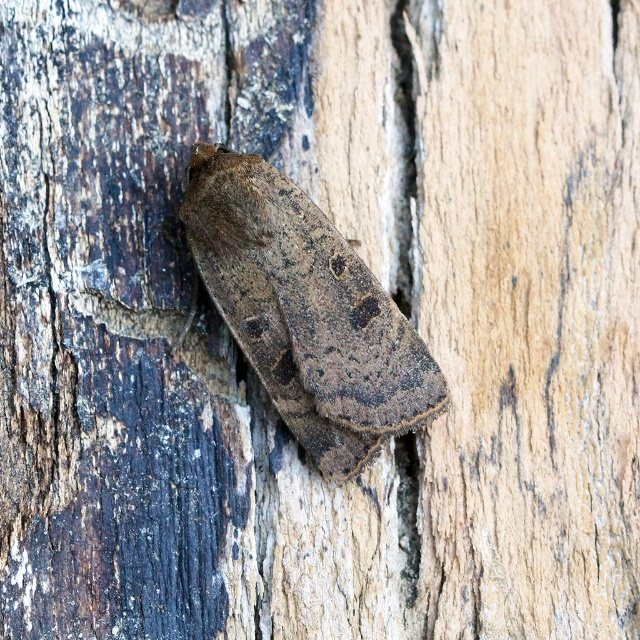Moths and butterflies: (168, 138, 454, 486)
